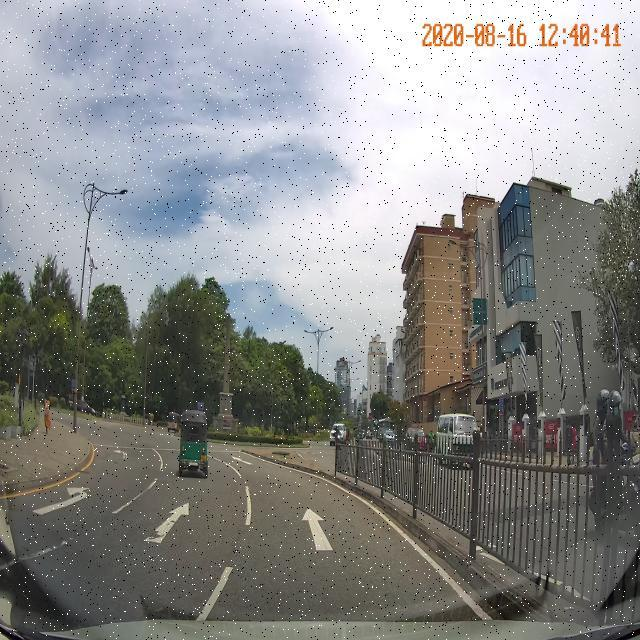forward: (214, 495, 458, 573), (68, 489, 255, 578)
